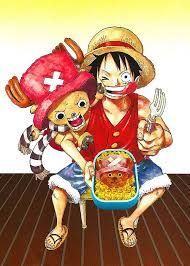chopper: (5, 37, 96, 131)
luffy: (95, 26, 157, 102)
